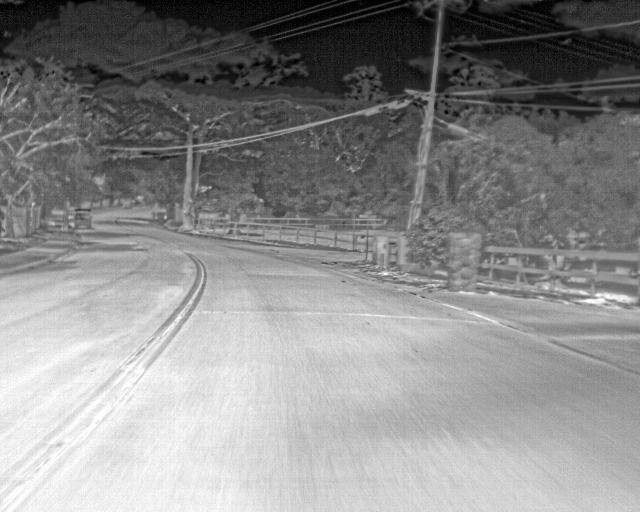car: (73, 207, 92, 230)
